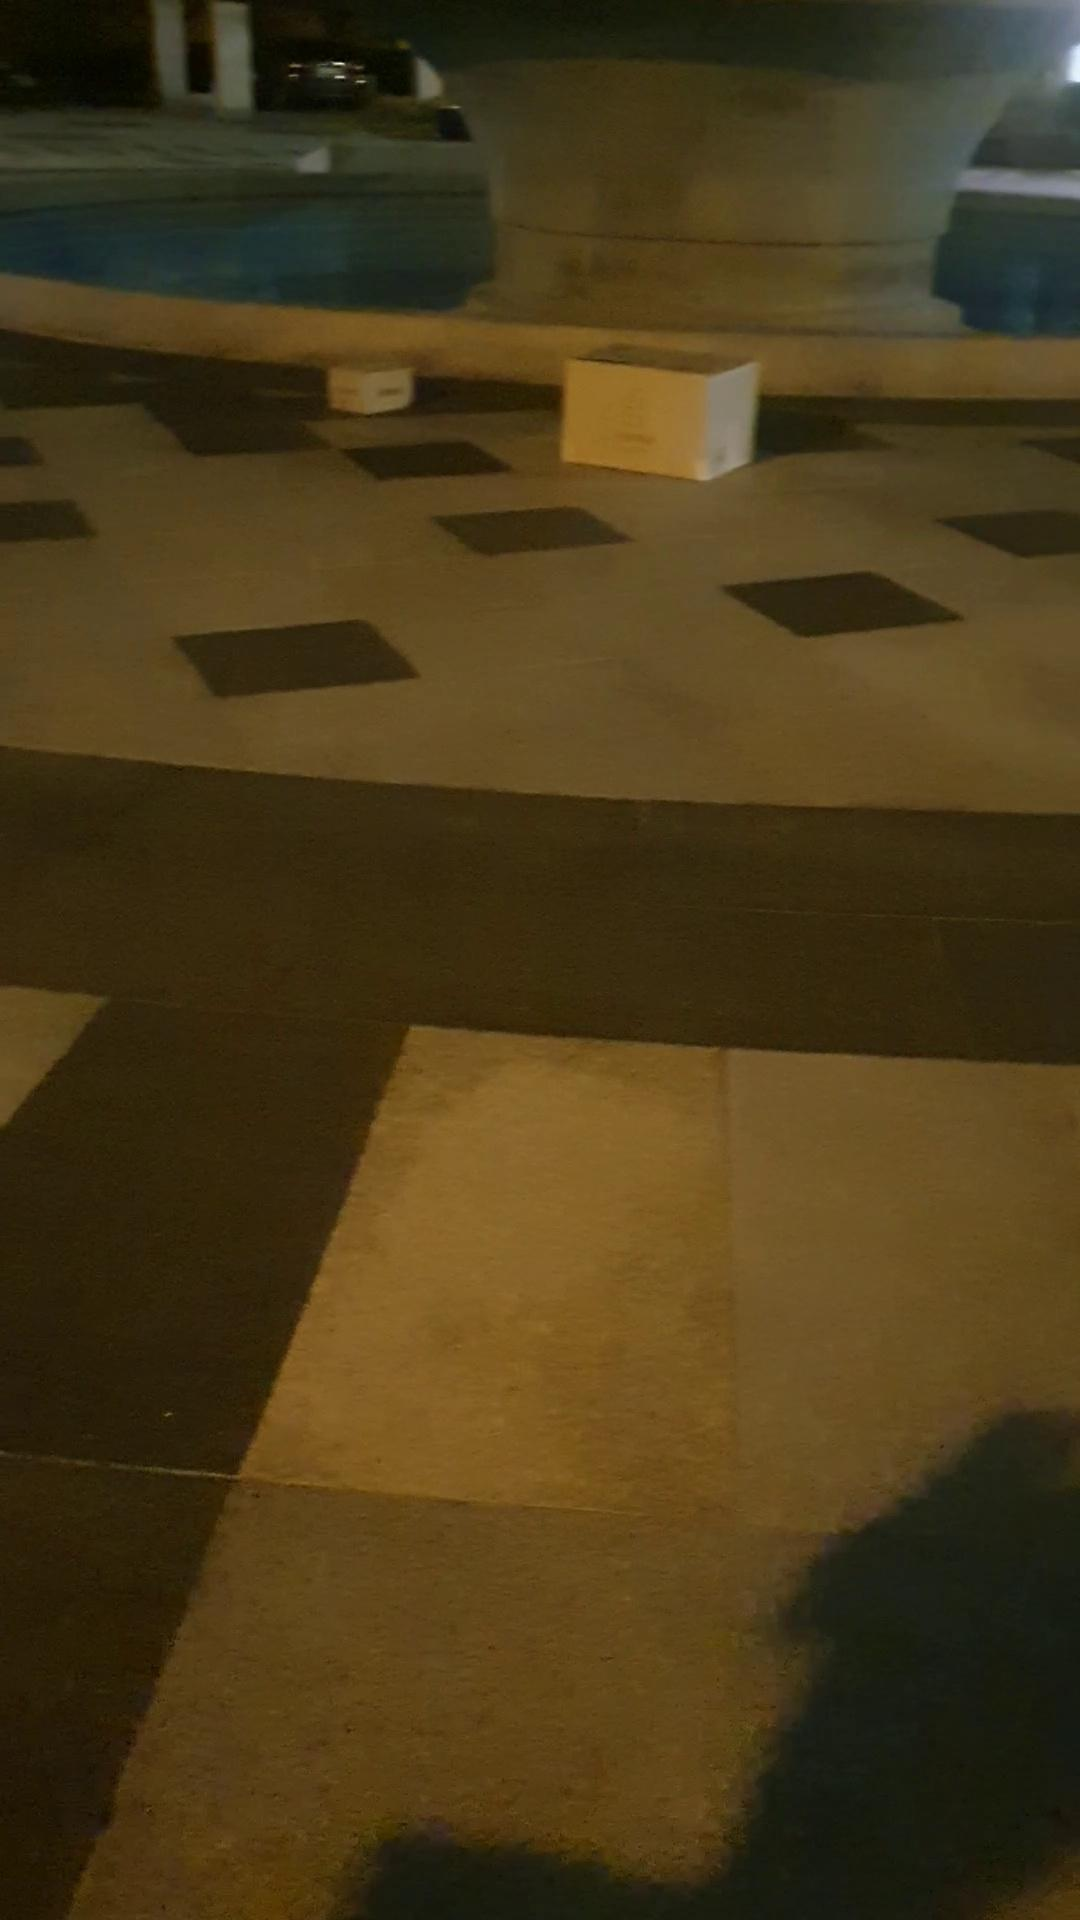Box: (546, 320, 775, 480), (323, 349, 417, 417)
